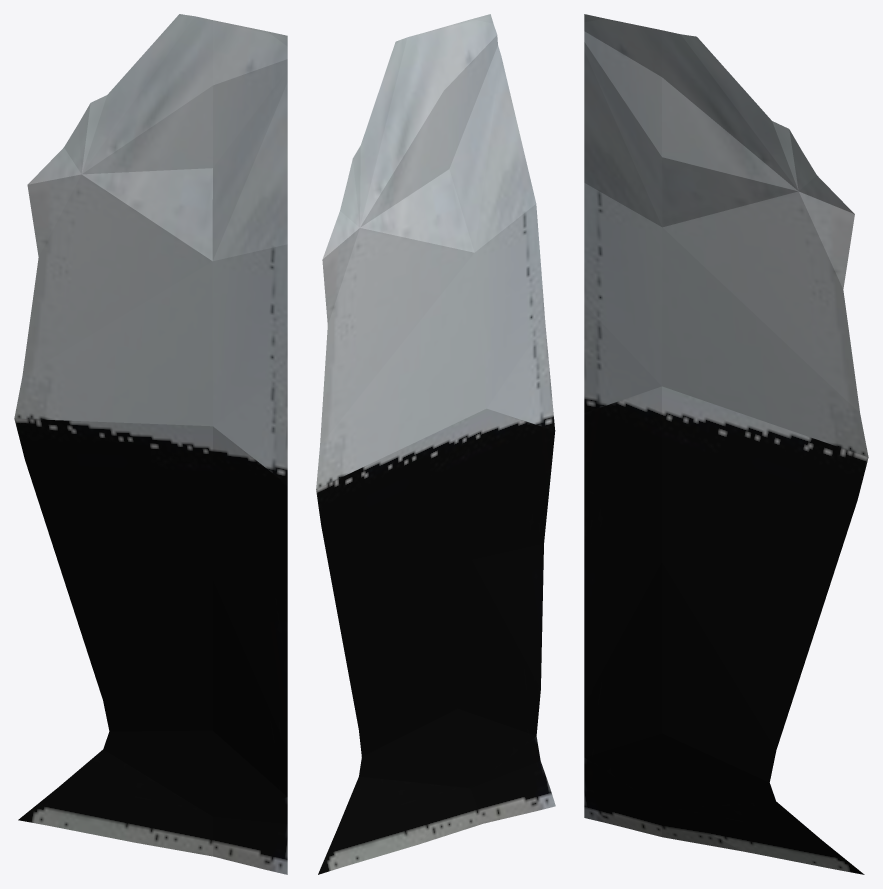
3 renders of one model, left to right at view 1: azimuth 90°, elevation 25°; view 2: azimuth 150°, elevation 25°; view 3: azimuth 270°, elevation 25°, orthographic. The views are drawn at different scales.
Bounding box in the file's own units: 0.2443 × 1.67 × 0.5146.
1 material, 1 textured.
